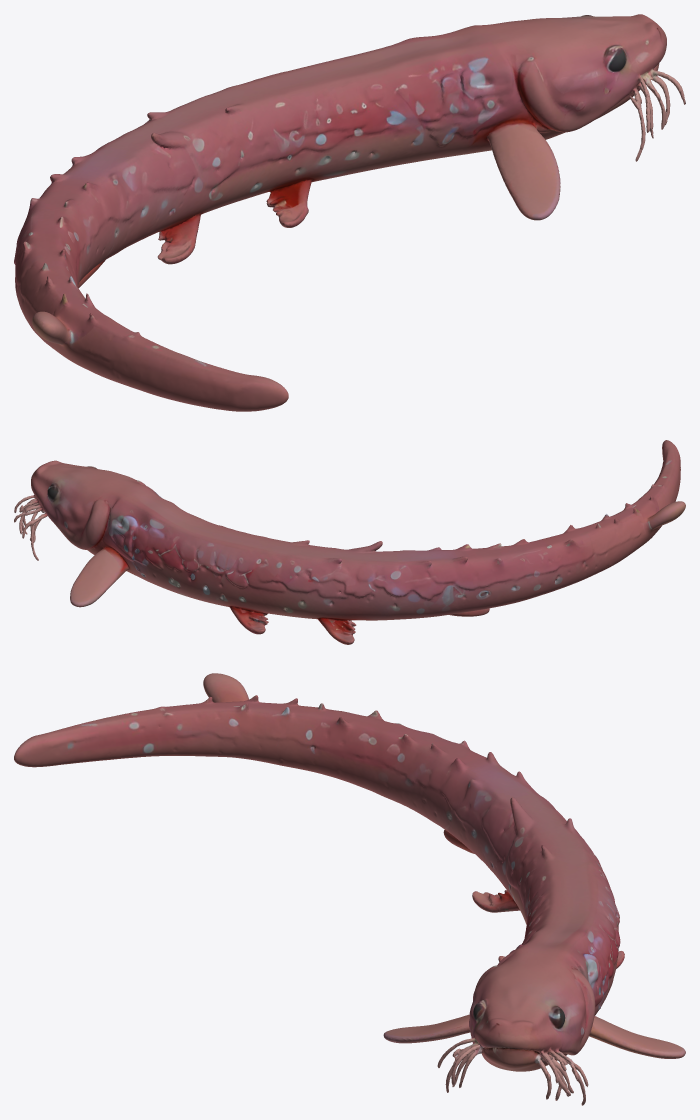
The model's file is fish_trench_hagfish.glb.
3 renders of one model, top to bottom at view 1: azimuth 30°, elevation 25°; view 2: azimuth 150°, elevation 25°; view 3: azimuth 270°, elevation 25°, orthographic. The views are drawn at different scales.
Parts seen in each view (by area): view 1: tripo_node_b5b1cfbf-5cb8-45bb-b141-4d3c6952a438; view 2: tripo_node_b5b1cfbf-5cb8-45bb-b141-4d3c6952a438; view 3: tripo_node_b5b1cfbf-5cb8-45bb-b141-4d3c6952a438.
Part boxes in pixels (<box>): tripo_node_b5b1cfbf-5cb8-45bb-b141-4d3c6952a438: <box>14,14,685,411</box>; tripo_node_b5b1cfbf-5cb8-45bb-b141-4d3c6952a438: <box>14,440,685,644</box>; tripo_node_b5b1cfbf-5cb8-45bb-b141-4d3c6952a438: <box>14,673,685,1105</box>.
Bounding box in the file's own units: 1 × 0.1532 × 0.8111.
1 material, 1 textured.
